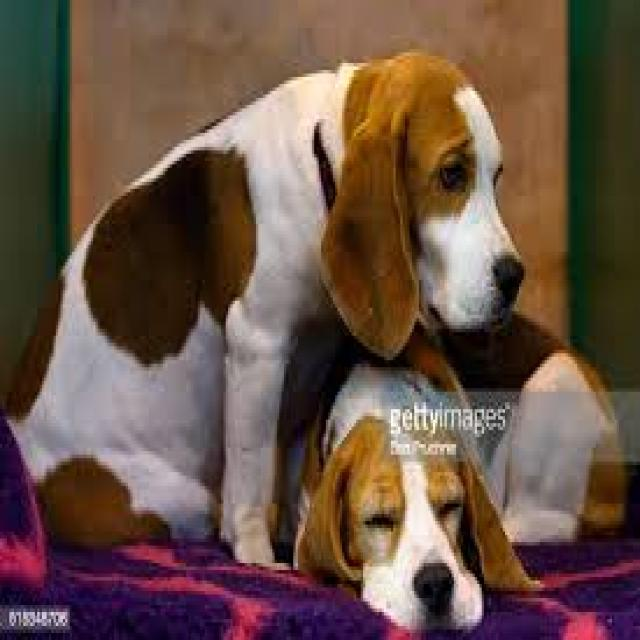Dog: (230, 47, 520, 365), (288, 379, 511, 640)
